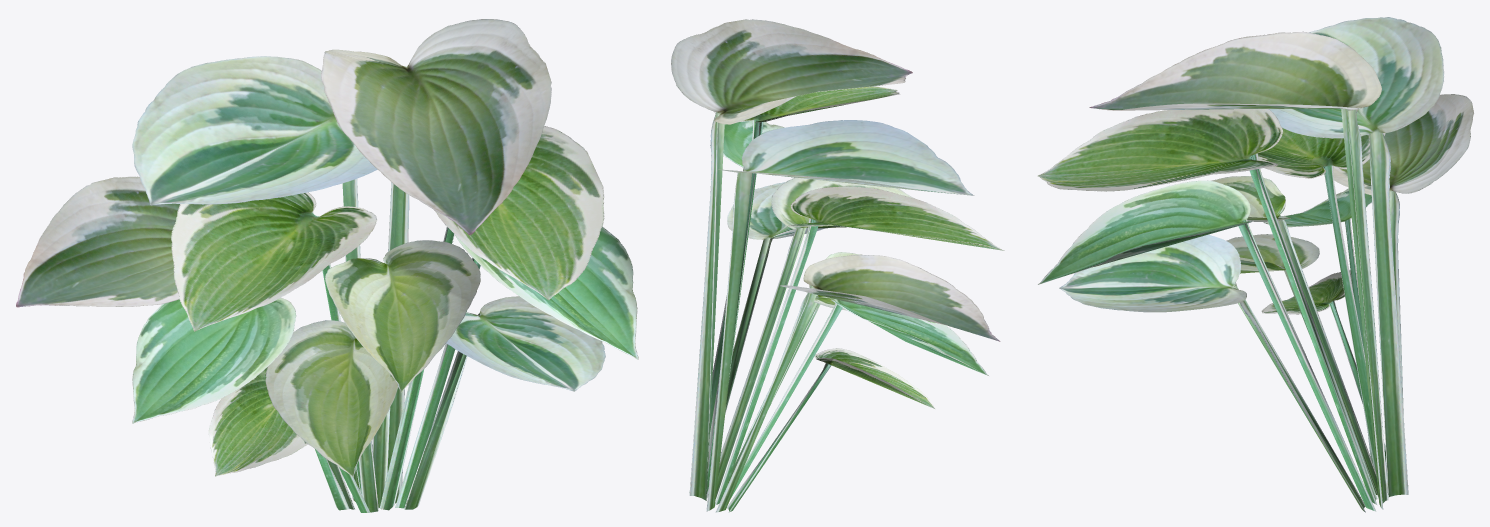
The model's file is plant_small_wg_00_i-corner02.fbx.
3 renders of one model, left to right at view 1: azimuth 30°, elevation 25°; view 2: azimuth 150°, elevation 25°; view 3: azimuth 270°, elevation 25°, orthographic. The views are drawn at different scales.
Visible parts, largest first — view 1: plant_small_wg_00_i-corner02; view 2: plant_small_wg_00_i-corner02; view 3: plant_small_wg_00_i-corner02.
Boxes of the visible parts, left/top/right/bottom form: plant_small_wg_00_i-corner02: left=16, top=19, right=638, bottom=512; plant_small_wg_00_i-corner02: left=671, top=19, right=1004, bottom=512; plant_small_wg_00_i-corner02: left=1037, top=17, right=1473, bottom=512.
Size of the model in its own units: 39.23 by 40.59 by 37.01.
1 material, 1 textured.
